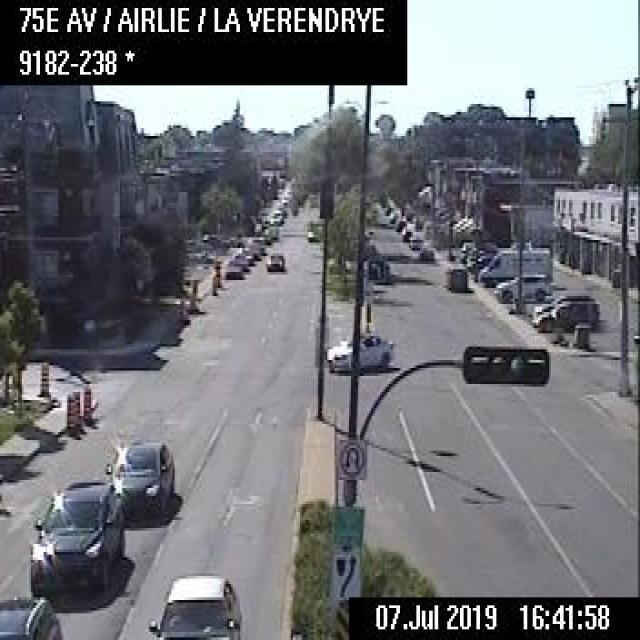construction: (71, 387, 81, 430), (82, 383, 92, 425), (37, 357, 49, 392), (64, 390, 74, 432), (211, 264, 220, 293), (176, 299, 184, 325)
vehicle: (26, 478, 125, 602), (144, 568, 240, 637), (103, 436, 174, 526), (321, 325, 395, 371), (476, 245, 553, 285), (0, 590, 60, 638), (534, 298, 601, 332), (493, 271, 551, 303), (444, 264, 467, 288), (264, 251, 284, 270), (417, 242, 435, 261), (230, 250, 248, 269), (303, 225, 320, 242), (224, 260, 240, 277), (245, 241, 260, 258), (407, 234, 422, 248), (399, 226, 412, 240)
